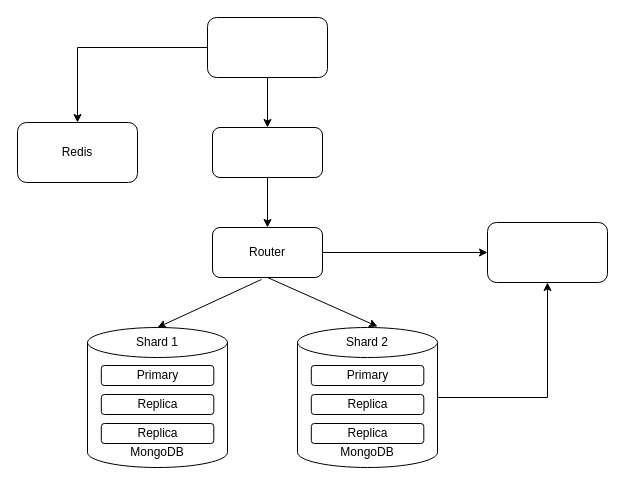
Some shapes in this 625 by 485 pixel diagram are drawn without their labels. Here are the shapes that lost their labels. From the top down, the centre of each, then its label:
At (x=267, y=47): "pymongo-api".
At (x=267, y=152): "Driver".
At (x=547, y=252): "configSrv".
